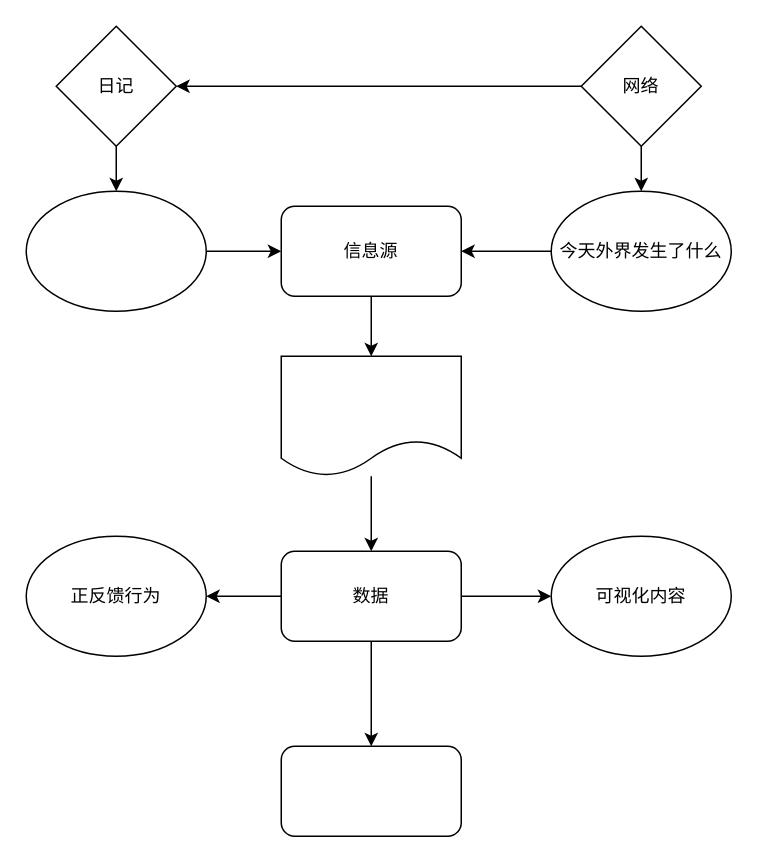
Some shapes in this 758 by 863 pixel diagram are drawn without their labels. Here are the shapes that lost their labels. From the top down, the centre of each, then its label:
At (x=115, y=250): "今天自己做了什么".
At (x=370, y=415): "整理笔记".
At (x=370, y=790): "网络输出".
